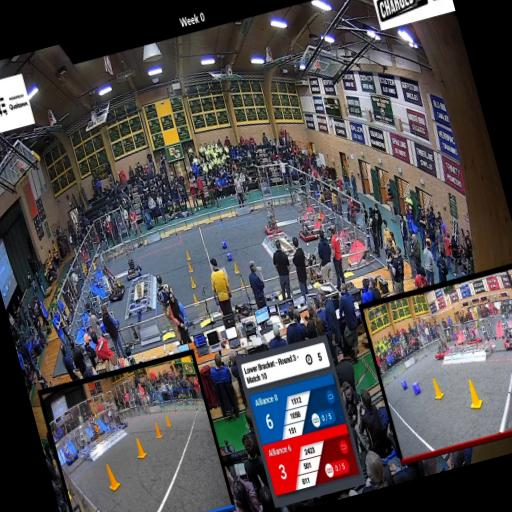robot: (98, 260, 130, 304), (94, 302, 123, 344), (297, 250, 327, 289), (258, 200, 286, 239), (293, 210, 320, 246), (118, 248, 146, 282)
